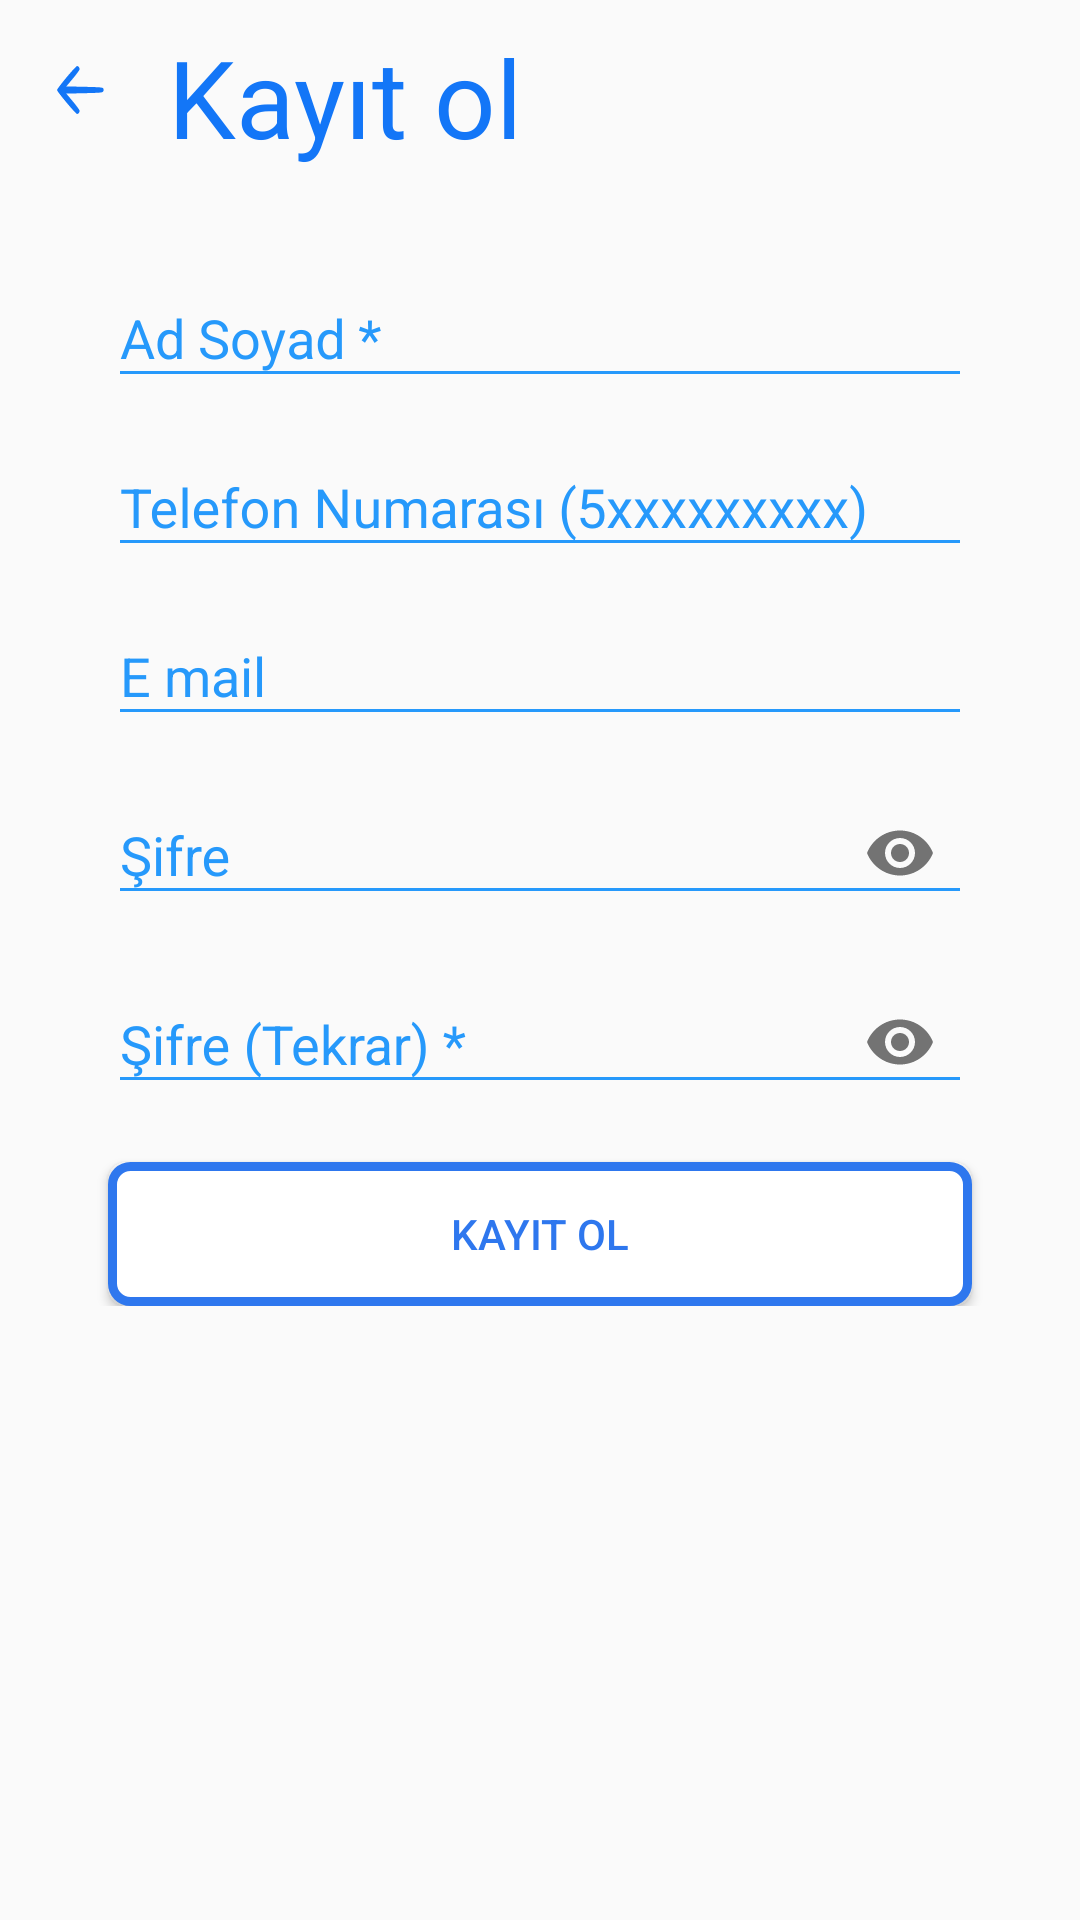

Screen size 1080 x 1920. Icon name, then its box in pixels as (x1, y1, x2, y2):
back: (57, 66, 104, 114)
